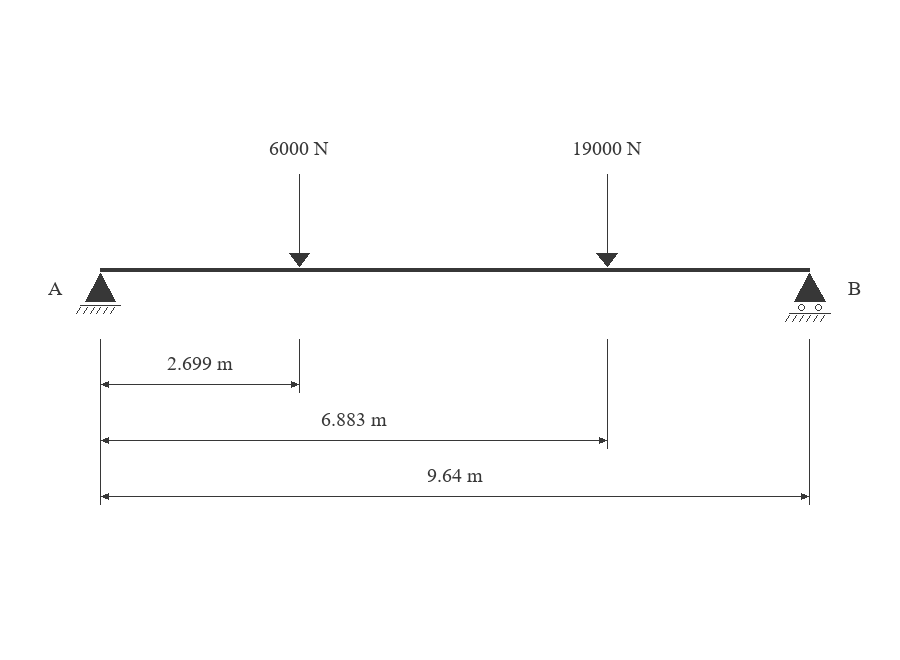pin_support: (76, 273, 121, 314)
point_load: (596, 174, 618, 267), (289, 174, 310, 267)
roller_support: (785, 273, 831, 322)
